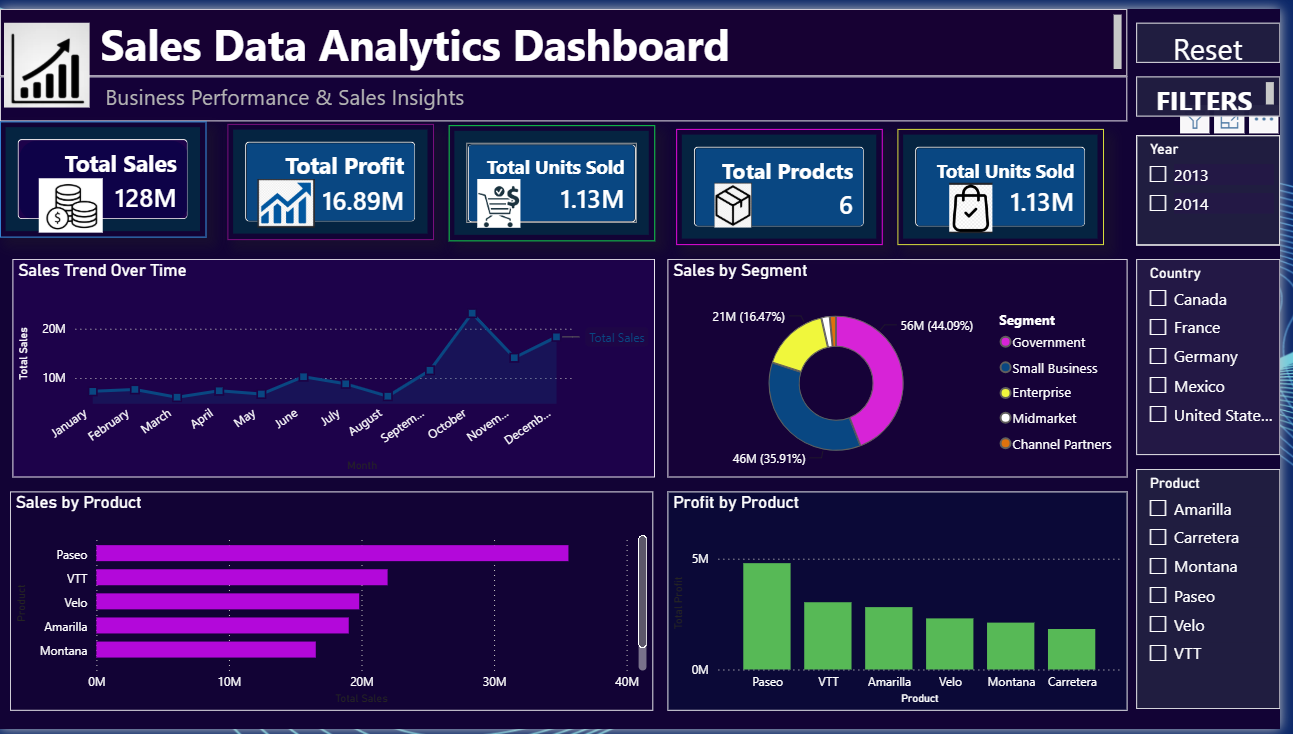

This screenshot's page, from the dashboard's own definition file:
{"tool":"powerbi","page":{"name":"Page 1","canvas":[1280,720],"ordinal":0},"visuals":[{"type":"textbox","box":[0,0,1136.2,67.5],"z":0},{"type":"textbox","box":[0,67.5,1136.2,45],"z":1000},{"type":"cardVisual","fields":{"Data":["Sheet1.Total Sales"]},"box":[0,112.5,206,116],"z":2000},{"type":"lineChart","title":"Sales Trend Over Time","fields":{"Category":["Sheet1.Date.Variation.Date Hierarchy.Month"],"Y":["Sheet1.Total Sales"]},"box":[12,250,642.5,218.8],"z":3000},{"type":"donutChart","title":"Sales by Segment","fields":{"Category":["Sheet1.Segment"],"Y":["Sheet1.Total Sales"]},"box":[667.5,250,460,218.8],"z":4000},{"type":"clusteredBarChart","title":"Sales by Product","fields":{"Category":["Sheet1.Product"],"Y":["Sheet1.Total Sales"]},"box":[10,482,643,219],"z":5000},{"type":"clusteredColumnChart","title":"Profit by Product","fields":{"Category":["Sheet1.Product"],"Y":["Sheet1.Total Profit"]},"box":[667.5,482.5,460,219],"z":6000},{"type":"slicer","fields":{"Values":["Sheet1.Year"]},"box":[1136.2,126.2,143.8,110],"z":7000},{"type":"slicer","fields":{"Values":["Sheet1.Country"]},"box":[1136.2,250,143.8,196.2],"z":8000},{"type":"slicer","fields":{"Values":["Sheet1.Product"]},"box":[1136.2,460,143.8,240],"z":9000},{"type":"textbox","box":[1136.2,67.5,143.8,40],"z":10000},{"type":"actionButton","box":[1136.2,13.8,143.8,40],"z":11000},{"type":"image","box":[38.8,161.2,63.8,70],"z":12000},{"type":"cardVisual","fields":{"Data":["Sheet1.Total Profit"]},"box":[227.5,115,206,116],"z":13000},{"type":"cardVisual","fields":{"Data":["Sheet1.Total Units Sold"]},"box":[448.8,116.2,206,116],"z":14000},{"type":"cardVisual","fields":{"Data":["Sheet1.Total Prodcts"]},"box":[676.2,120,206,116],"z":15000},{"type":"cardVisual","fields":{"Data":["Sheet1.Total Units Sold"]},"box":[897.5,120,206,116],"z":16000},{"type":"image","box":[255,170,62.5,48.8],"z":16001},{"type":"image","box":[461.2,170,75,48.8],"z":16002},{"type":"image","box":[697.5,173.8,71.2,45],"z":16003},{"type":"image","box":[930,173.8,81.2,50],"z":16004},{"type":"image","box":[0,13.8,93.8,85],"z":16005}]}

Visuals, with their boxes in screenshot pixels (x1, y1, x2, y2), scaled from the page's 1280x720 canvas onto the 1293x734 screenshot:
textbox: [0,0,1148,69]
textbox: [0,69,1148,115]
cardVisual - Sheet1.Total Sales: [0,115,208,233]
"Sales Trend Over Time" lineChart: [12,255,661,478]
"Sales by Segment" donutChart: [674,255,1139,478]
"Sales by Product" clusteredBarChart: [10,491,660,715]
"Profit by Product" clusteredColumnChart: [674,492,1139,715]
slicer - Sheet1.Year: [1148,129,1292,241]
slicer - Sheet1.Country: [1148,255,1292,455]
slicer - Sheet1.Product: [1148,469,1292,714]
textbox: [1148,69,1292,110]
actionButton: [1148,14,1292,55]
image: [39,164,104,236]
cardVisual - Sheet1.Total Profit: [230,117,438,235]
cardVisual - Sheet1.Total Units Sold: [453,118,661,237]
cardVisual - Sheet1.Total Prodcts: [683,122,891,241]
cardVisual - Sheet1.Total Units Sold: [907,122,1115,241]
image: [258,173,321,223]
image: [466,173,542,223]
image: [705,177,777,223]
image: [939,177,1021,228]
image: [0,14,95,101]
